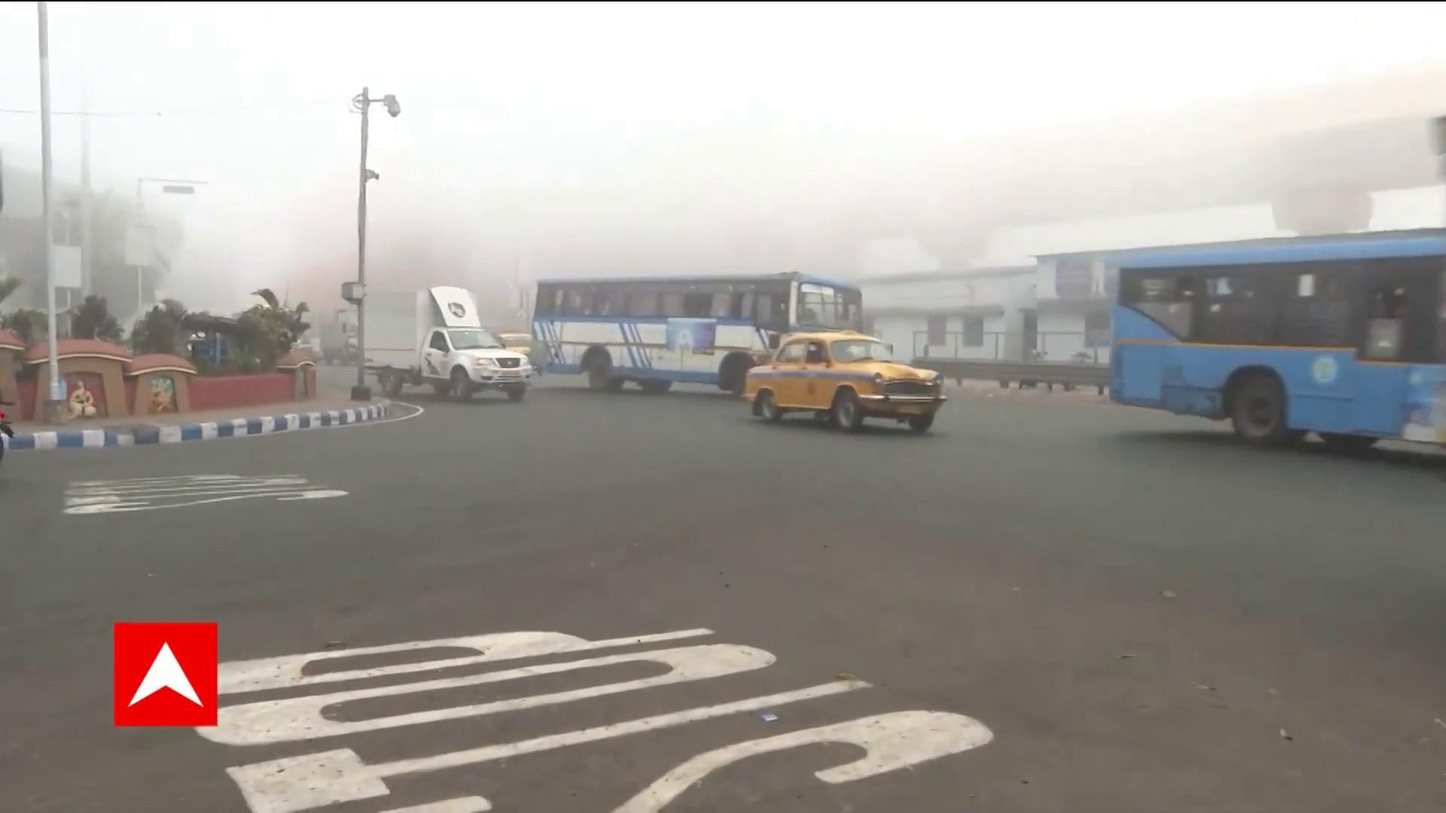Bus: (1103, 232, 1446, 453), (523, 272, 868, 405)
Car: (740, 326, 946, 431)
Truck: (367, 288, 534, 403)
